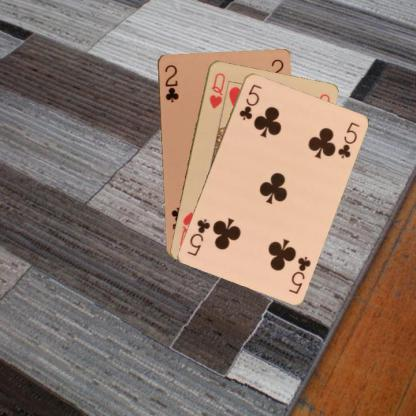2c: (162, 62, 180, 103)
5c: (285, 254, 312, 295), (236, 81, 263, 121)
Qh: (206, 70, 226, 110)
